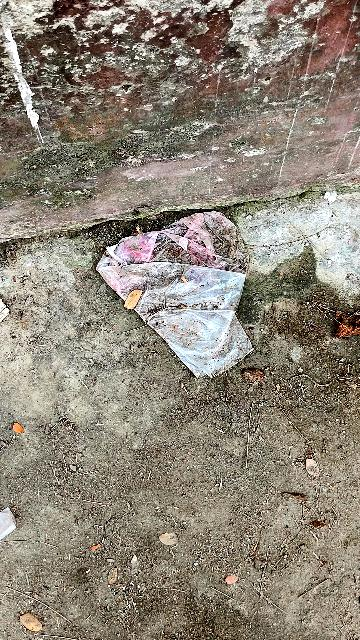polythene: (82, 234, 281, 370)
